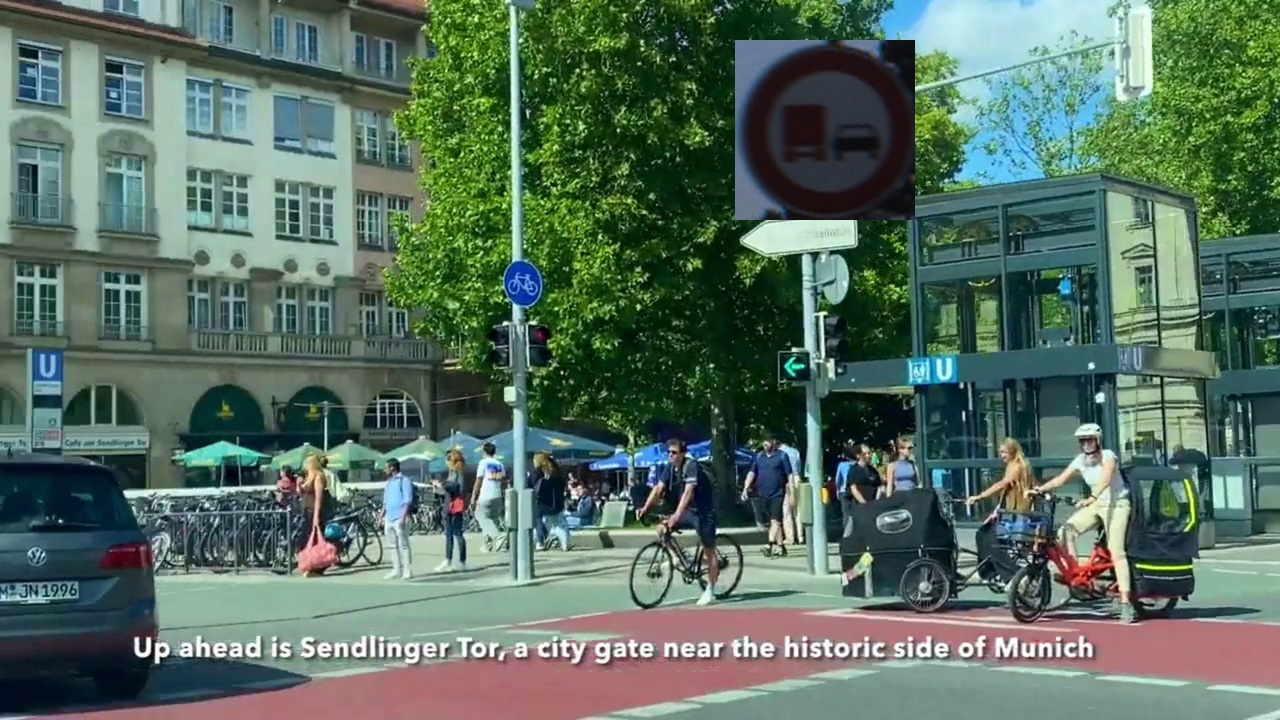No pass >3.5t: (735, 40, 915, 220)
